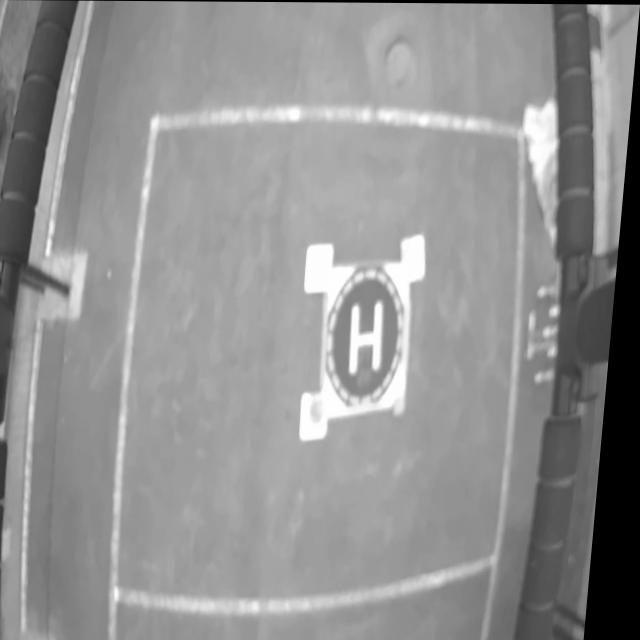Helipad: (355, 300, 390, 376)
